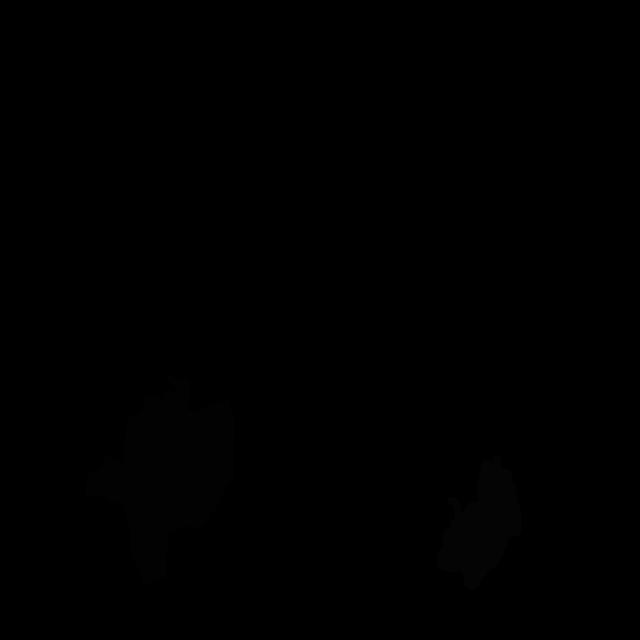cardboard: (85, 375, 236, 585)
soft_plastic: (437, 455, 522, 589)
